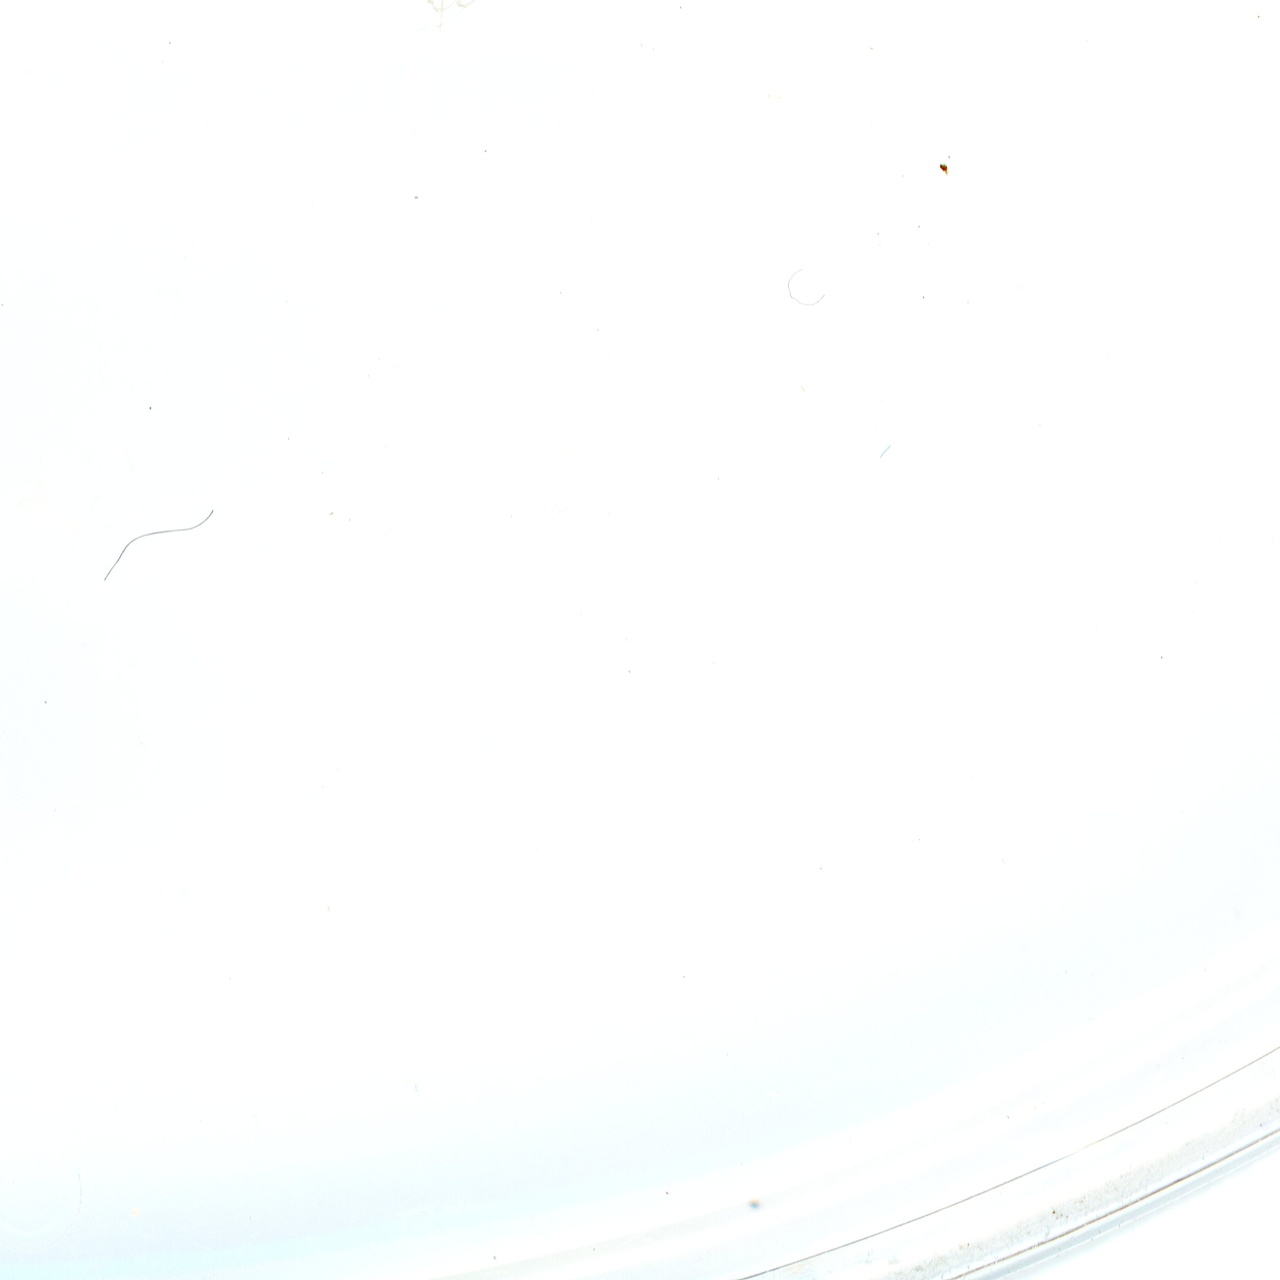arthropod: (388, 0, 512, 34)
